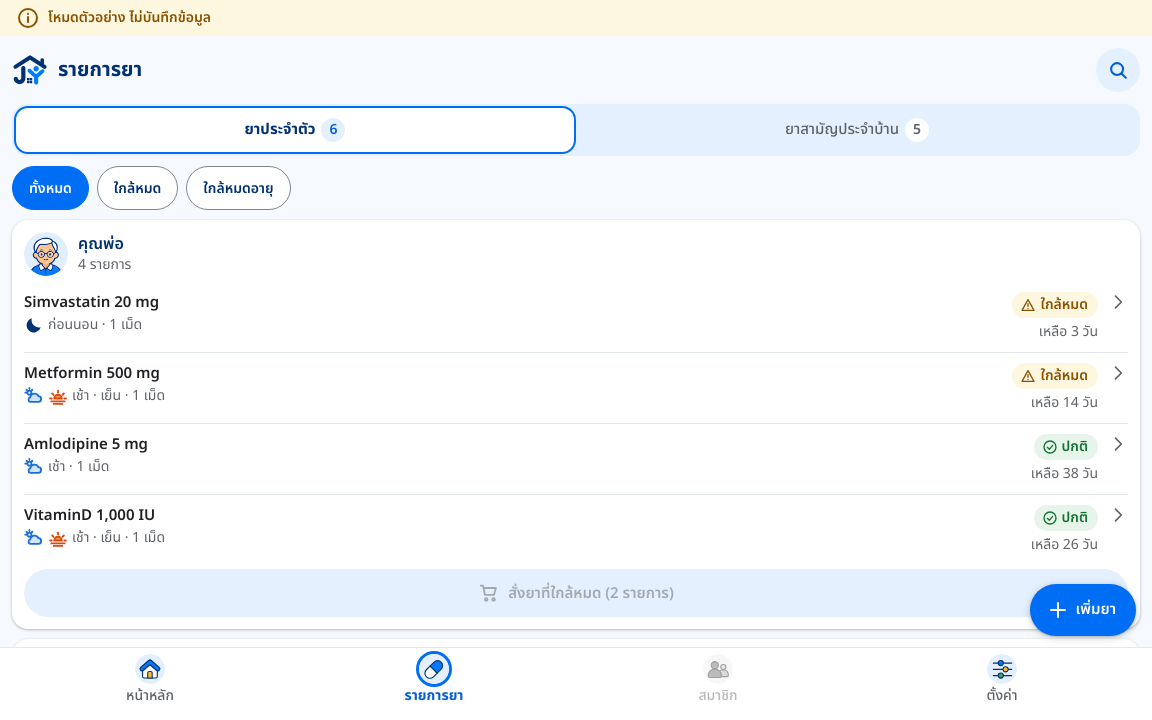
Test: search and filter › no match: mascot message, and "ล้างตัวกรอง" brings the list back
This screenshot has width=1152, height=720.
Click the button named "ค้นหายา" at (1118, 70), box [1096, 48, 1140, 92]
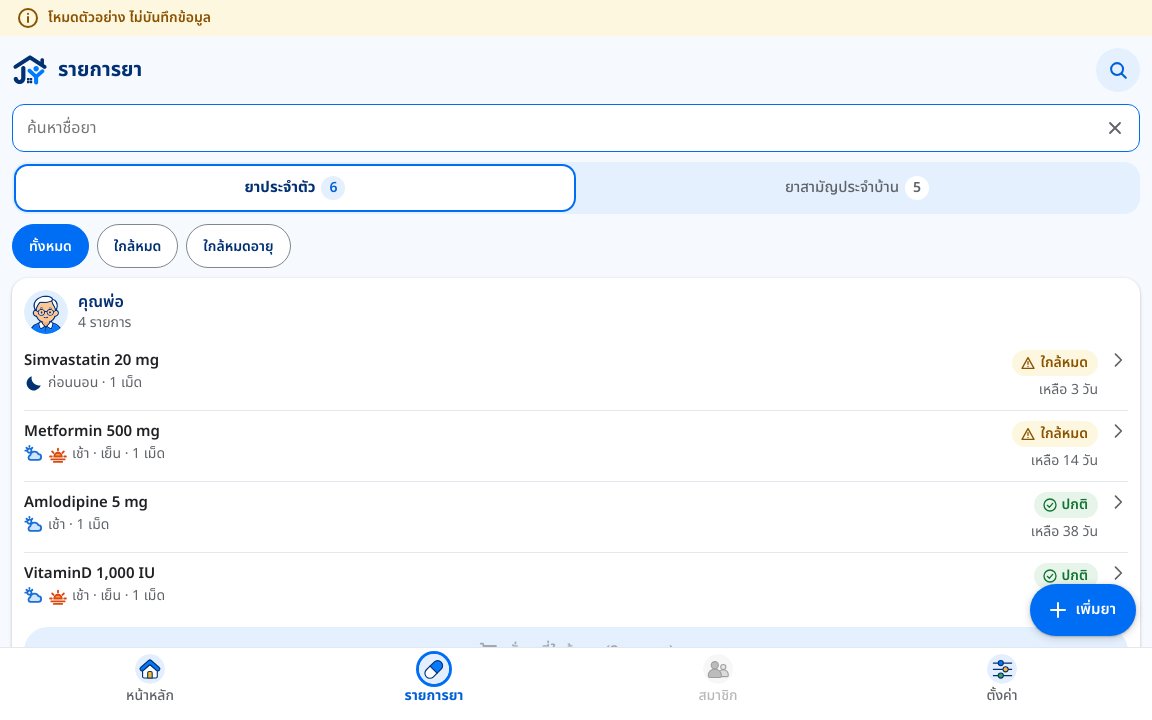
Type "zzz" into the search field with placeholder "ค้นหาชื่อยา" at (560, 128), box [27, 106, 1093, 150]
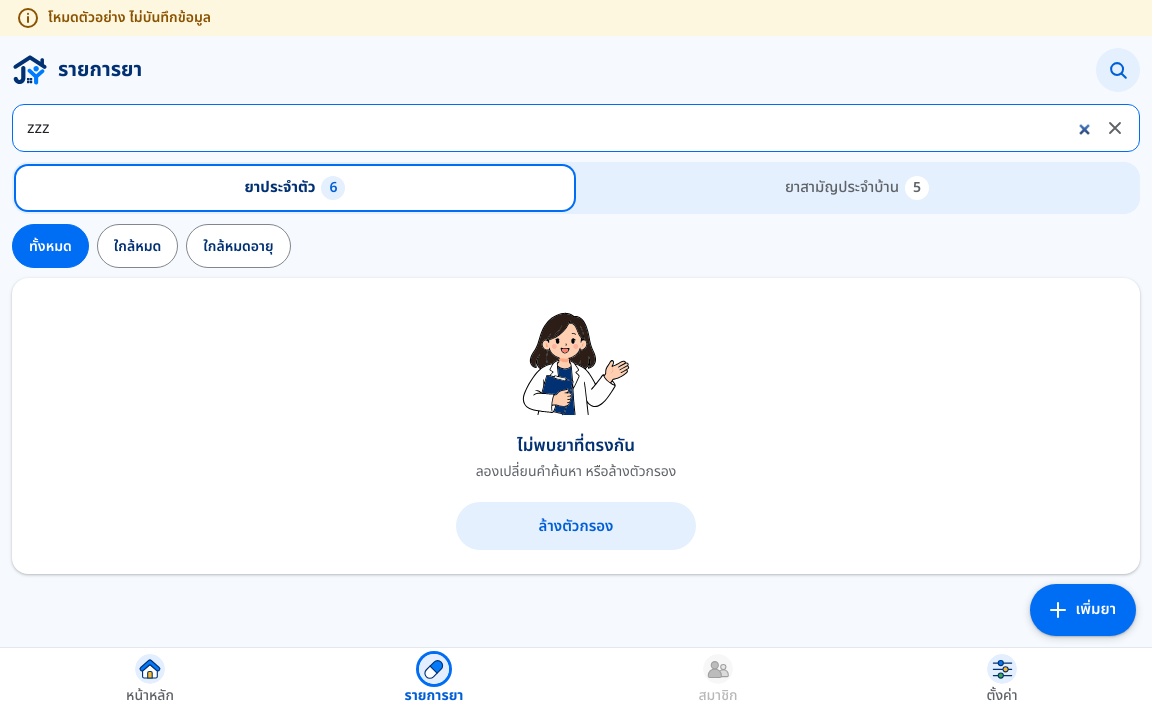
expect the heading "ไม่พบยาที่ตรงกัน" is shown: met, box [517, 434, 635, 458]
expect the text "ลองเปลี่ยนคำค้นหา หรือล้างตัวกรอง" is shown: met, box [476, 462, 676, 482]
Click the button "ล้างตัวกรอง" at (576, 526), box [456, 502, 696, 550]
(page scrolled)
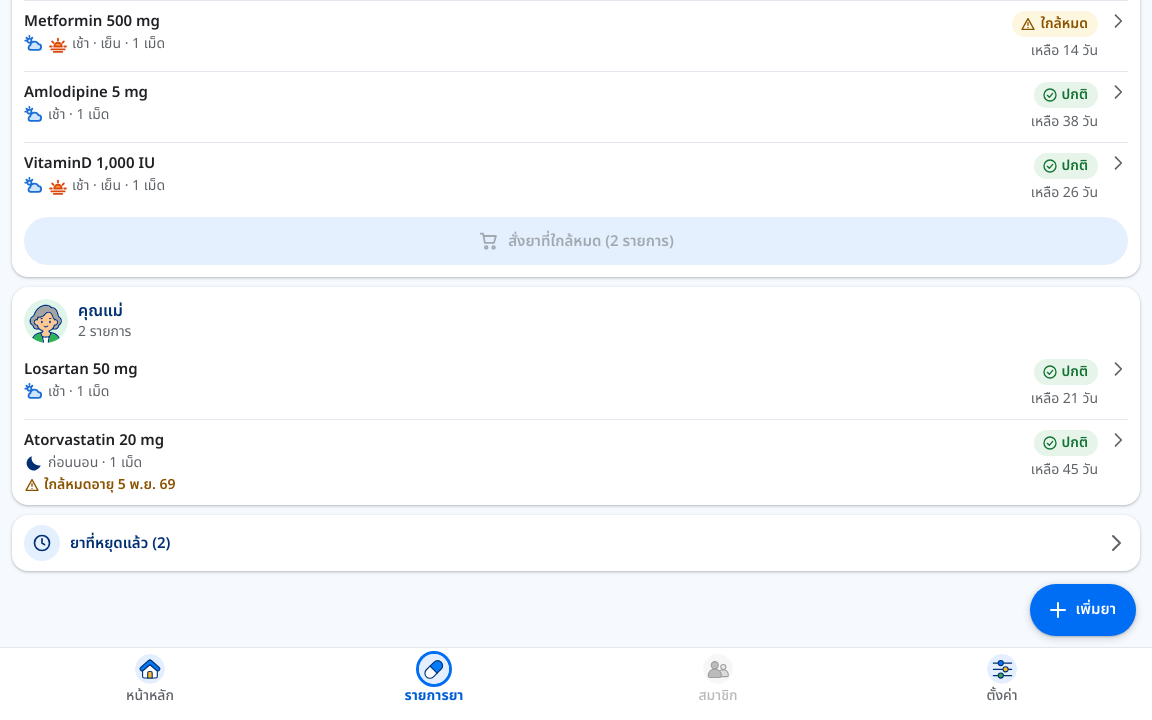
expect the text "Losartan 50 mg" is shown: met, box [24, 358, 138, 381]
